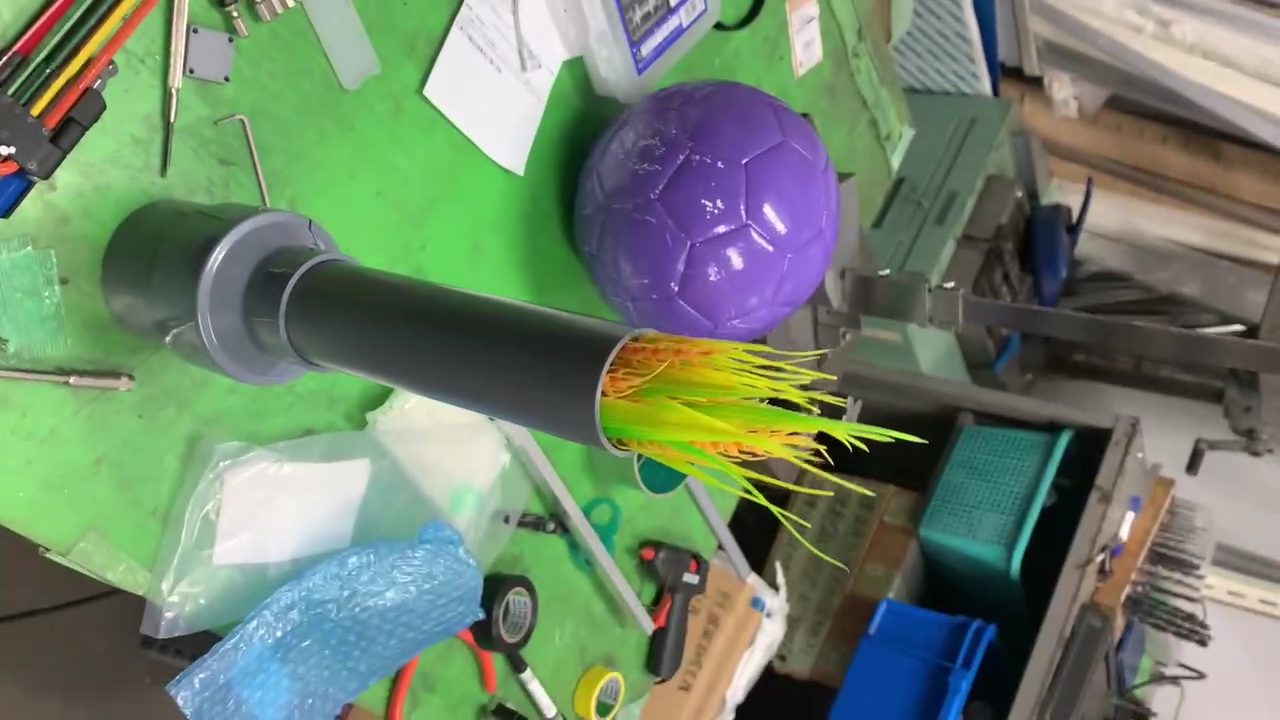purple: (577, 84, 837, 345)
